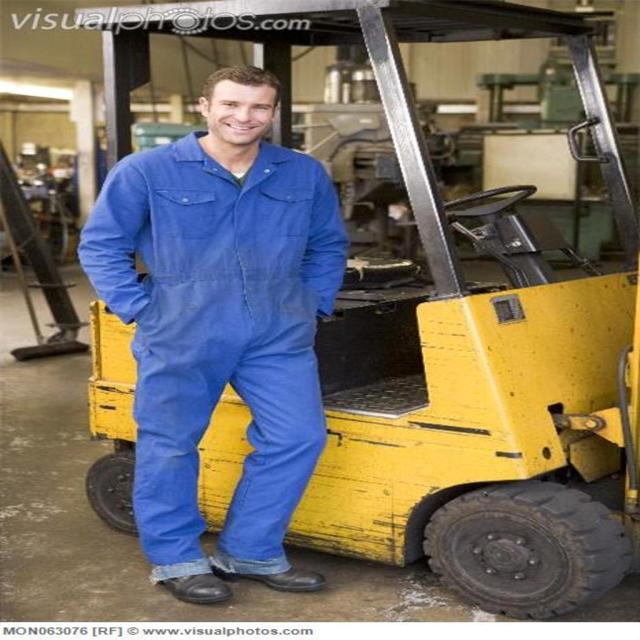Face: (204, 69, 307, 144)
